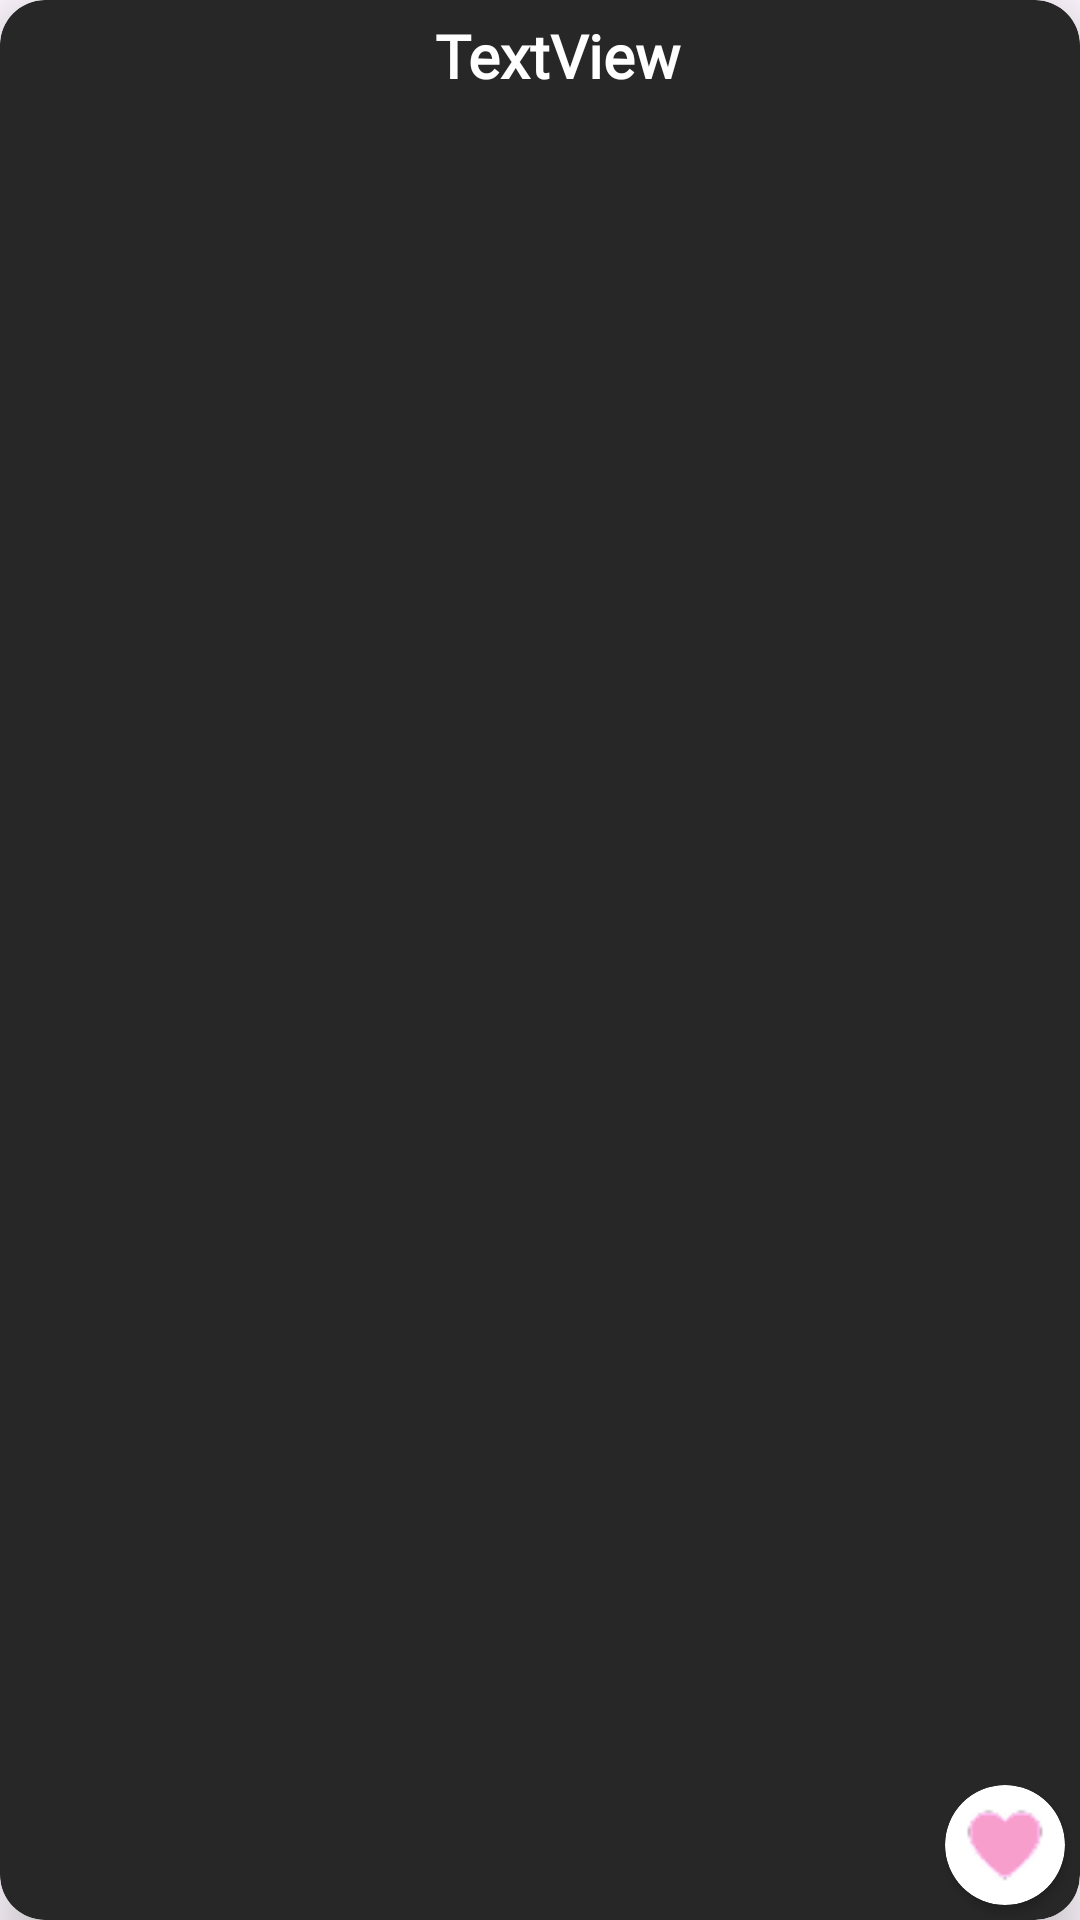

Icon bounding boxes for this 1080×1920 phone screenshot, format box=[x1, y1, x2, y2]:
favourite: box=[967, 1810, 1043, 1880]
